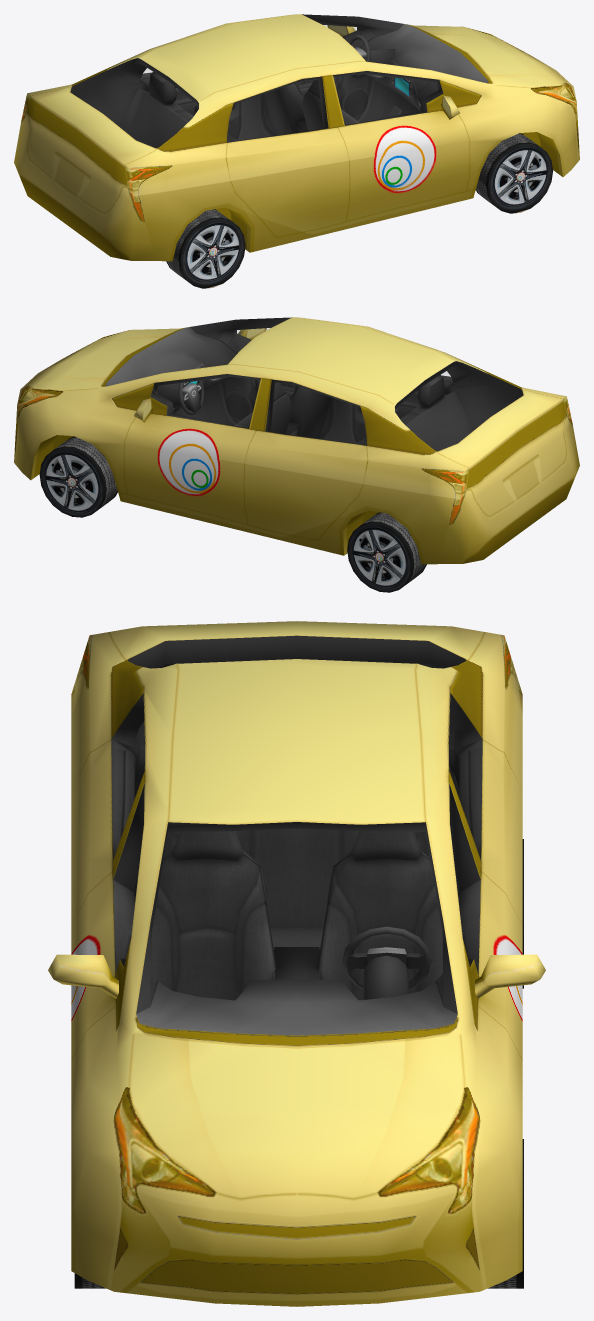
Rendered from Prius.glb.
The picture shows the model from 3 angles, top to bottom: view 1: azimuth 30°, elevation 25°; view 2: azimuth 150°, elevation 25°; view 3: azimuth 270°, elevation 25°; orthographic projection. The views are drawn at different scales.
Parts seen in each view (by area): view 1: Hybrid, Hybrid_Interior, Wheel_Front_Left_.001, Wheel_Front_Left_.002; view 2: Hybrid, Hybrid_Interior, Wheel_Front_Left_, Wheel_Front_Left_.003, Steering_Wheel; view 3: Hybrid, Hybrid_Interior, Steering_Wheel.
Boxes of the visible parts, x1=… form: Hybrid: x1=14, y1=14, x2=579, y2=261; Hybrid_Interior: x1=70, y1=14, x2=488, y2=148; Wheel_Front_Left_.001: x1=475, y1=133, x2=552, y2=213; Wheel_Front_Left_.002: x1=166, y1=209, x2=245, y2=288; Hybrid: x1=14, y1=317, x2=579, y2=564; Hybrid_Interior: x1=105, y1=317, x2=523, y2=451; Wheel_Front_Left_: x1=39, y1=436, x2=117, y2=517; Wheel_Front_Left_.003: x1=347, y1=512, x2=426, y2=592; Steering_Wheel: x1=178, y1=380, x2=203, y2=415; Hybrid: x1=48, y1=621, x2=545, y2=1306; Hybrid_Interior: x1=111, y1=635, x2=482, y2=1035; Steering_Wheel: x1=342, y1=926, x2=431, y2=989.
Bounding box in the file's own units: 5.4 × 1.87 × 2.35.
Materials: 8 (7 with a texture image).
